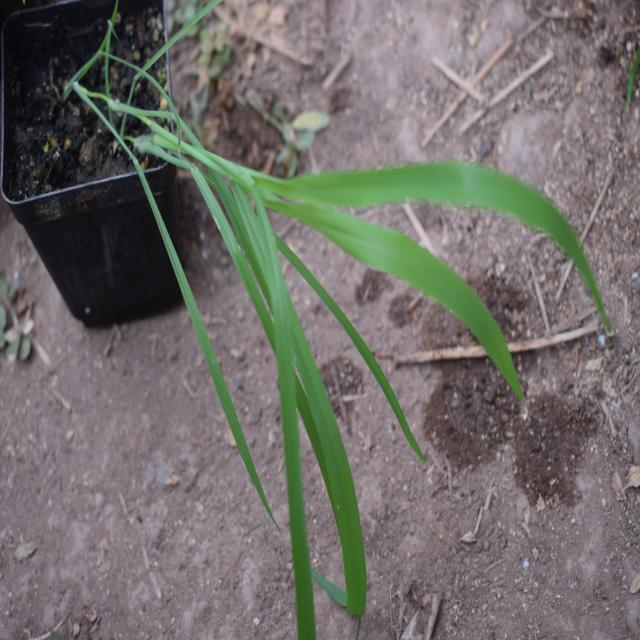crabgrass: (168, 110, 512, 549)
